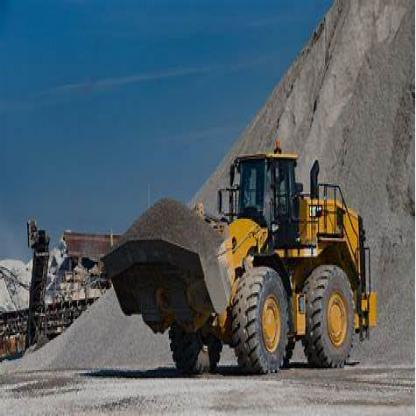bull_dozer/loader/grader: (94, 130, 378, 380)
